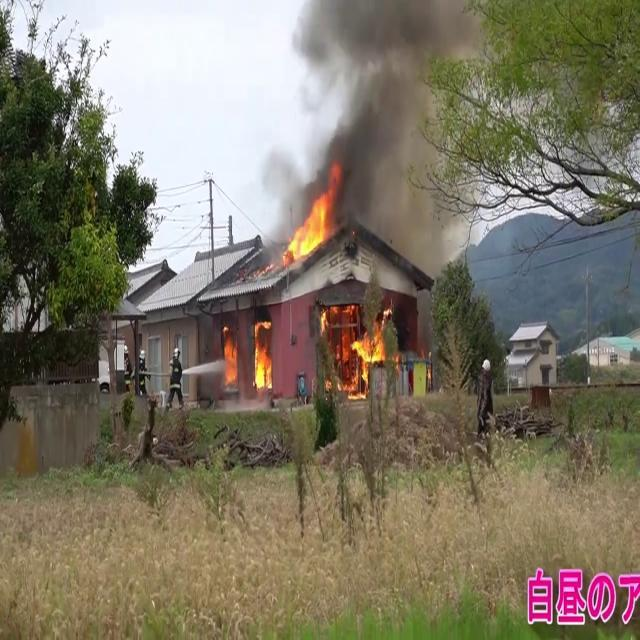Fire: (220, 309, 278, 391), (284, 184, 338, 266), (341, 316, 389, 394)
Smoke: (276, 0, 470, 253)
